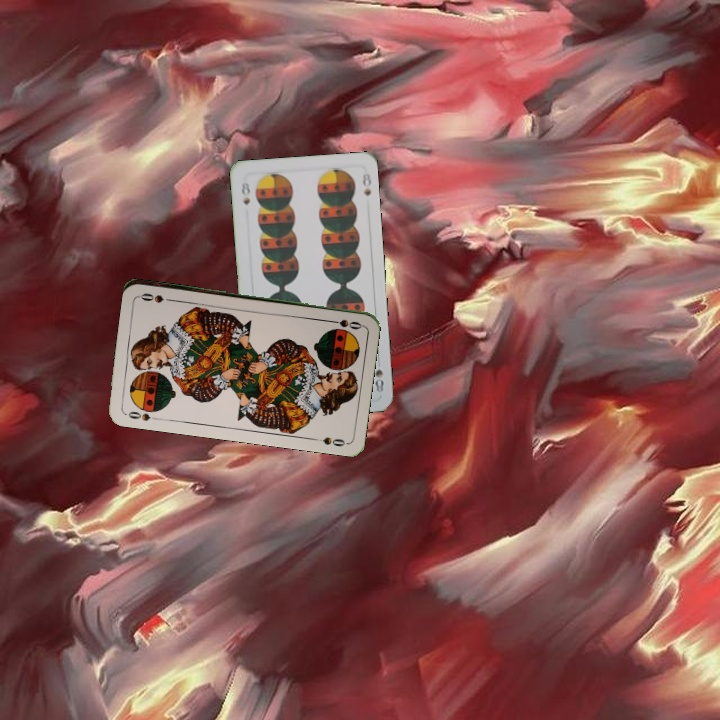S8: (371, 354, 386, 395), (237, 178, 253, 208)
SO: (121, 404, 162, 423), (324, 315, 364, 331)
